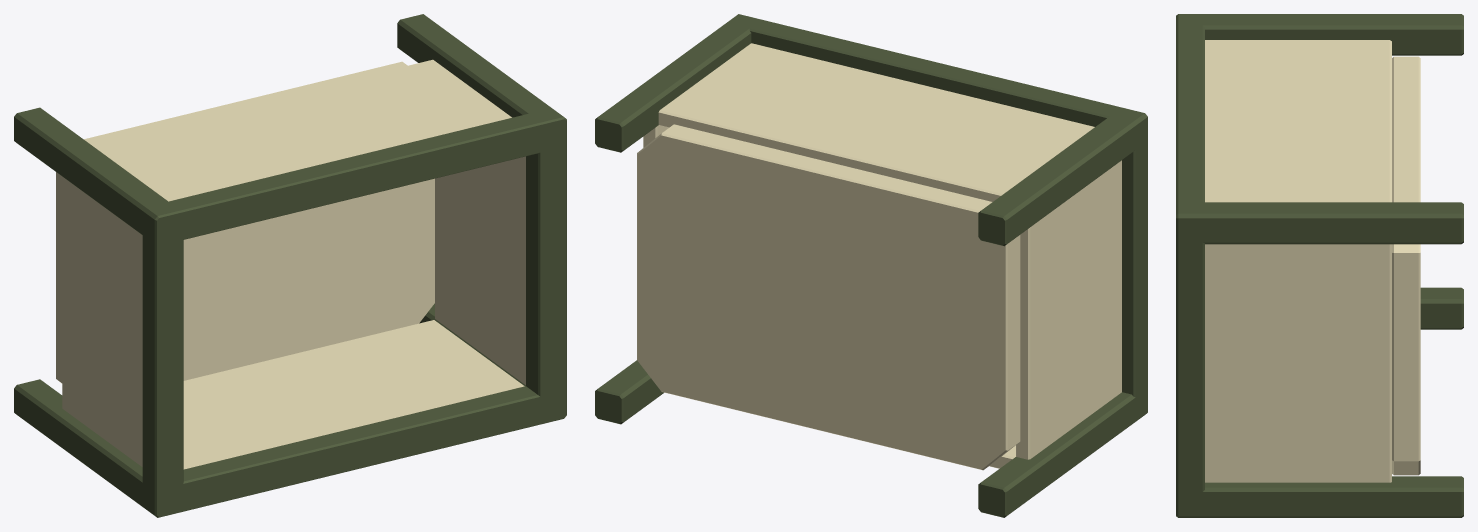
Rendered from fixture_04_promotion_bin.glb.
The picture shows the model from 3 angles, left to right: view 1: azimuth 30°, elevation 25°; view 2: azimuth 150°, elevation 25°; view 3: azimuth 270°, elevation 25°; orthographic projection.
Visible parts, largest first — view 1: fixture_04_promotion_bin; view 2: fixture_04_promotion_bin; view 3: fixture_04_promotion_bin.
Part boxes in pixels (<box>): fixture_04_promotion_bin: <box>14,14,566,517</box>; fixture_04_promotion_bin: <box>595,14,1147,517</box>; fixture_04_promotion_bin: <box>1176,14,1463,517</box>.
Size of what is drawn, in the model's own units: 1 by 0.7 by 0.6.
